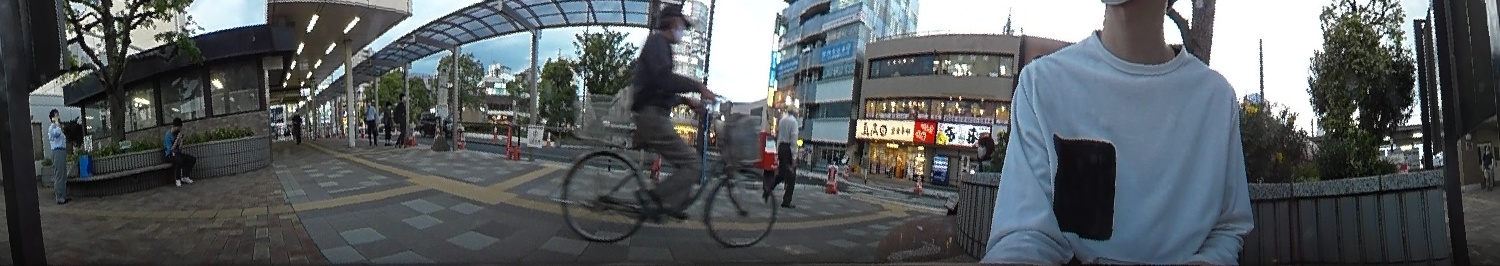difficult_person: (937, 130, 998, 212), (391, 91, 412, 149), (361, 98, 380, 147), (1478, 141, 1496, 189), (289, 105, 306, 147), (382, 100, 396, 144)
person: (625, 2, 727, 220), (765, 97, 804, 209), (154, 112, 198, 187), (44, 106, 74, 205)
